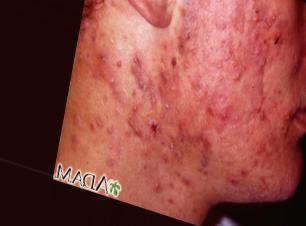Acne: (222, 0, 297, 60), (190, 32, 255, 85), (93, 50, 150, 102), (215, 152, 277, 196), (136, 48, 182, 97), (177, 118, 220, 169), (196, 101, 250, 133), (178, 8, 218, 45), (125, 104, 170, 130)
